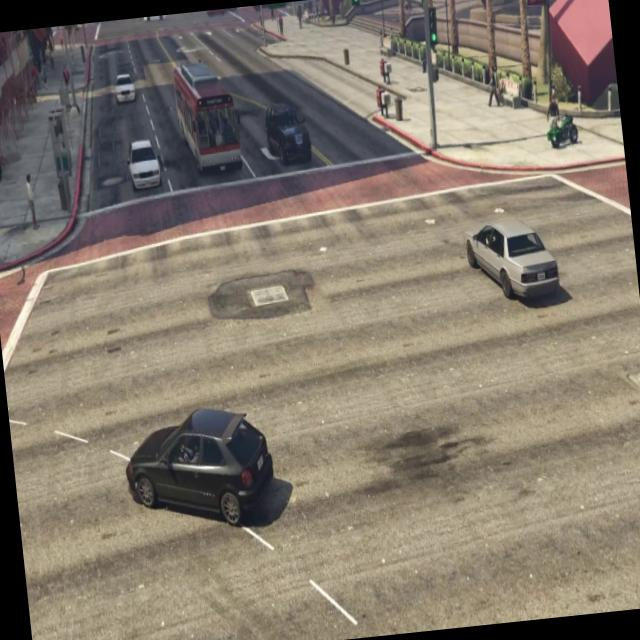Green-Signal: (421, 0, 446, 60), (265, 2, 289, 16), (347, 0, 368, 12)
